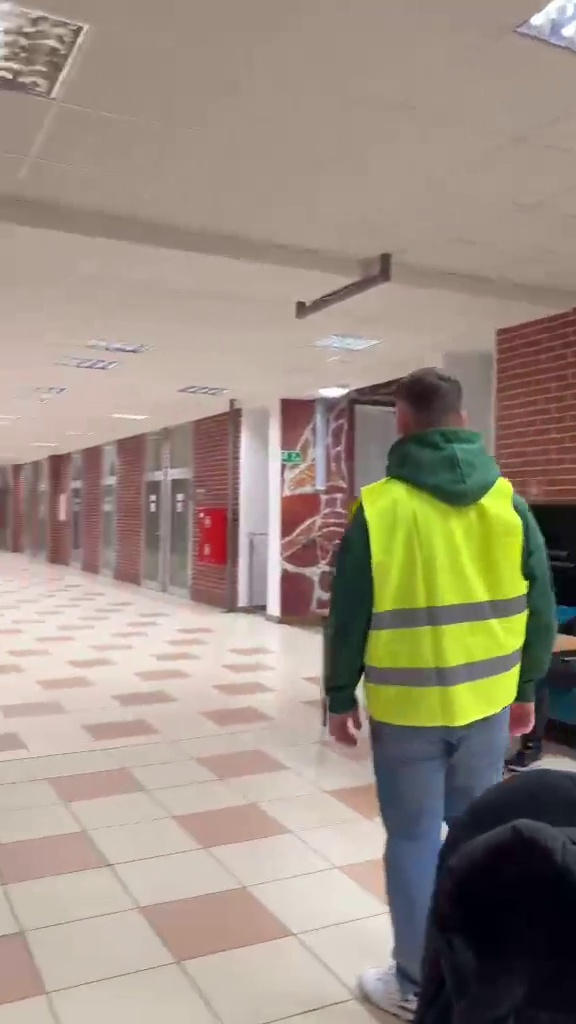vest: (327, 364, 556, 1005)
